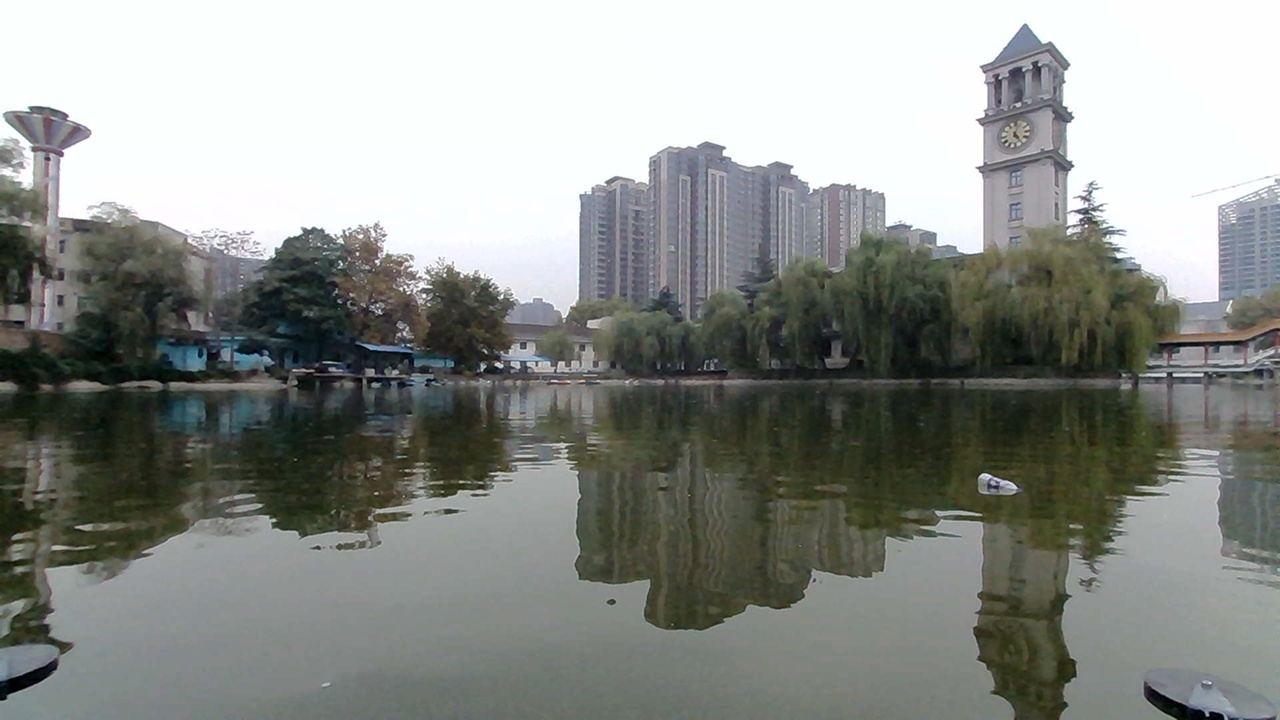bottle: (977, 469, 1016, 499)
